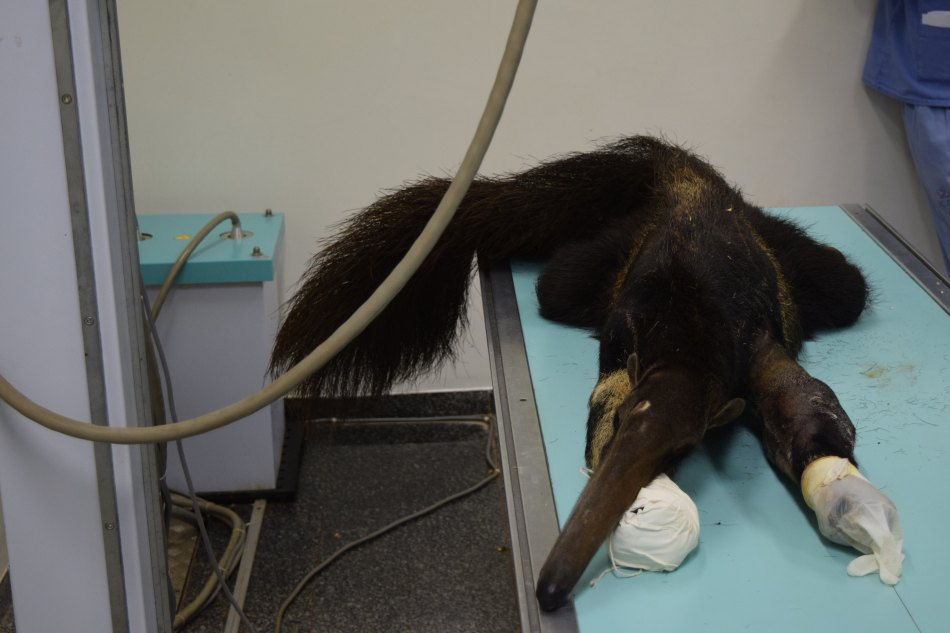TamanduaBandeira: (283, 125, 910, 615)
